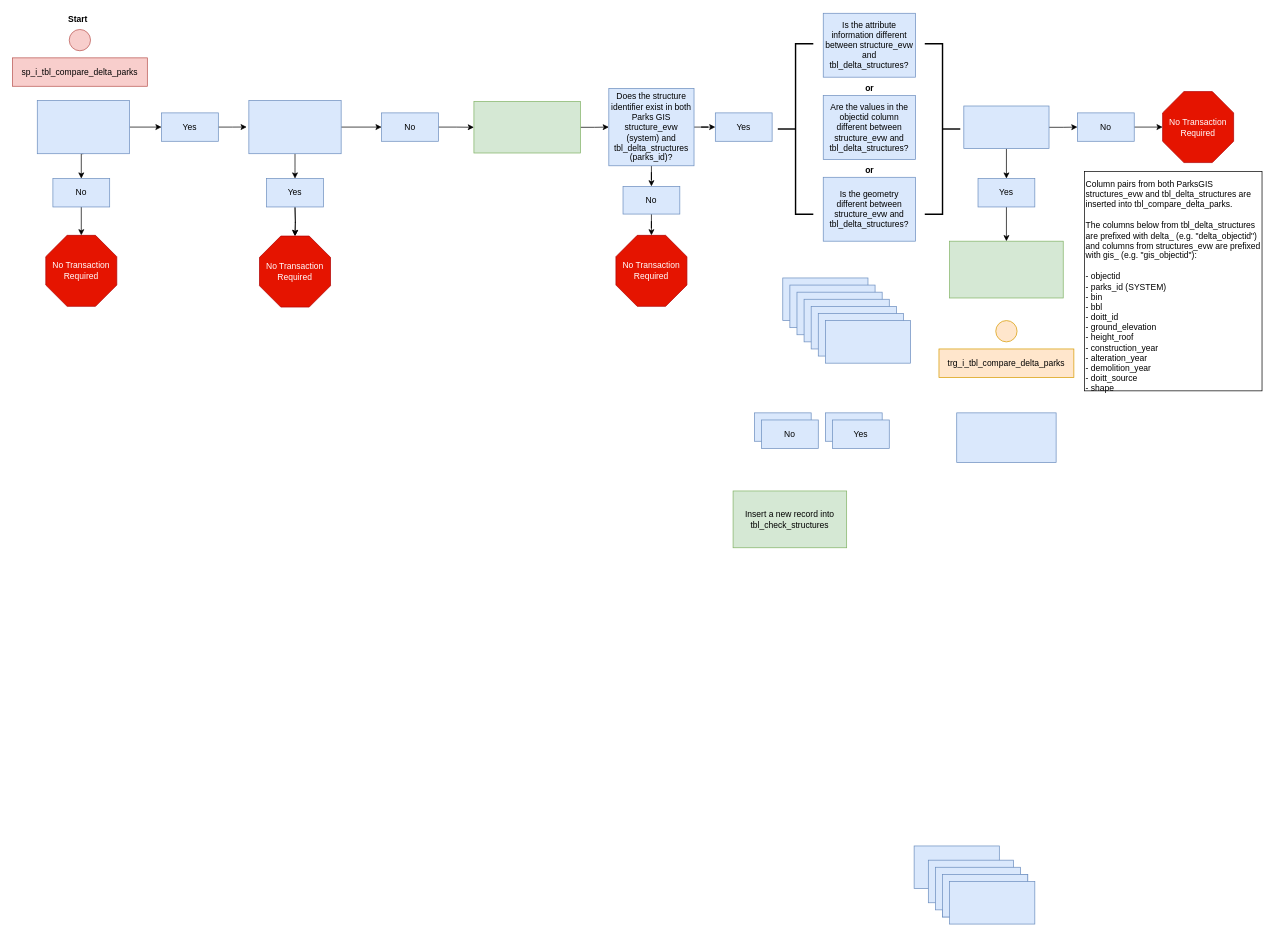
Image size: 1274x936. Some labels were removed from this diagram. The shapes that lost their labels are listed below. From the top down, each one's box as (x1, y1, x2, y2) in pixels, then its label:
(37, 100, 130, 154): Is the structure identifier unique in structures_evw (system)?
(248, 100, 341, 154): Is the structure identifier null in structures_evw (system)?
(473, 101, 580, 153): Truncate existing data in tbl_compare_delta_parks
(963, 105, 1049, 149): Is the answer to any of these questions "yes"?
(949, 240, 1063, 298): Insert a new record into tbl_compare_delta_parks
